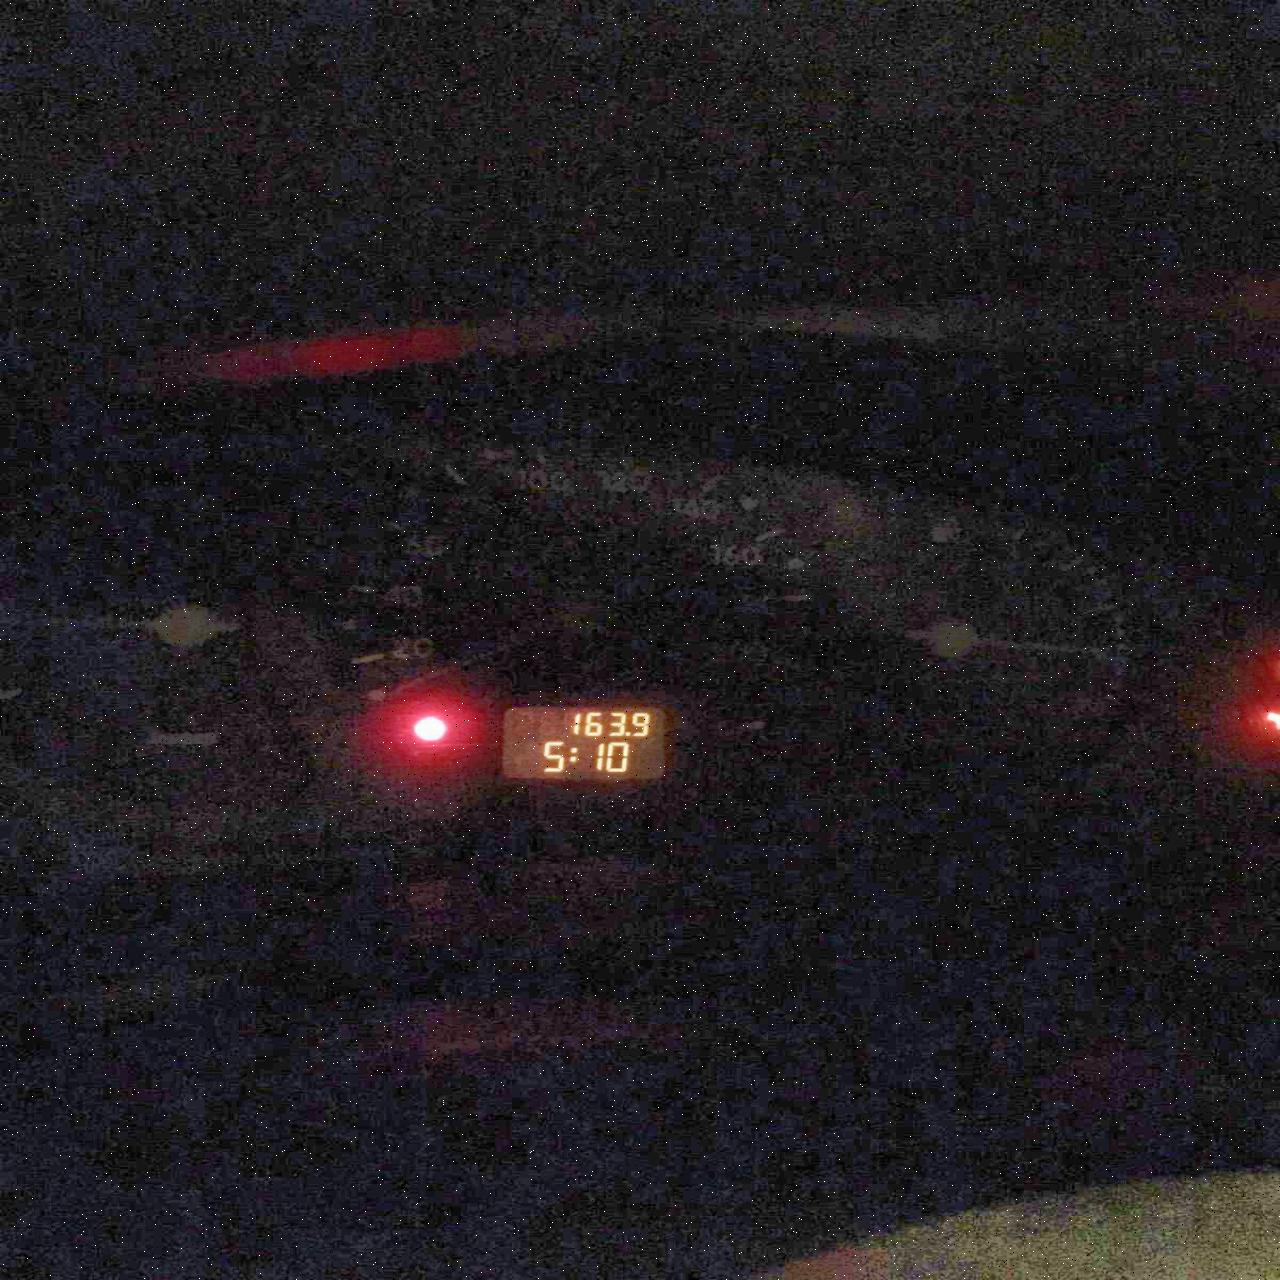-: (624, 730, 631, 736)
0: (604, 741, 629, 772)
1: (594, 742, 604, 770), (572, 712, 580, 735)
3: (607, 712, 626, 736)
5: (540, 741, 564, 772)
6: (583, 712, 602, 736)
9: (631, 712, 649, 736)
X: (567, 747, 578, 763)
odometer: (498, 703, 667, 782)
